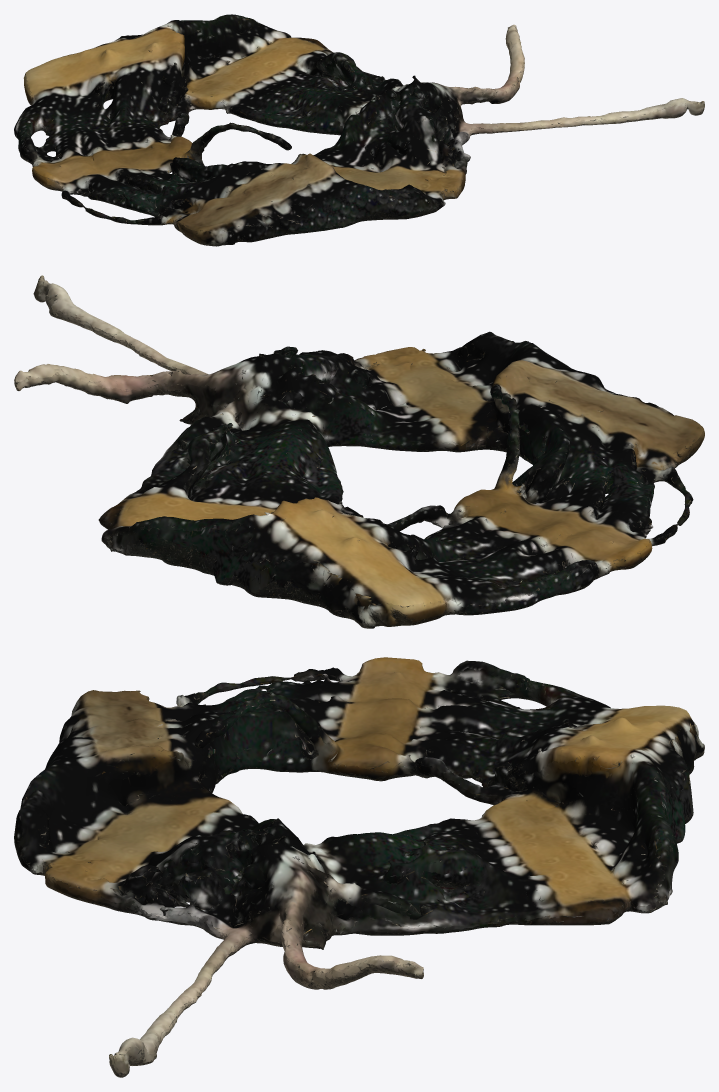
The model's file is qlone_root2-reduce_rebake-cc.glb.
3 renders of one model, top to bottom at view 1: azimuth 30°, elevation 25°; view 2: azimuth 150°, elevation 25°; view 3: azimuth 270°, elevation 25°, orthographic. The views are drawn at different scales.
Bounding box in the file's own units: 0.1347 × 0.0142 × 0.0967.
Materials: 1 (1 with a texture image).
